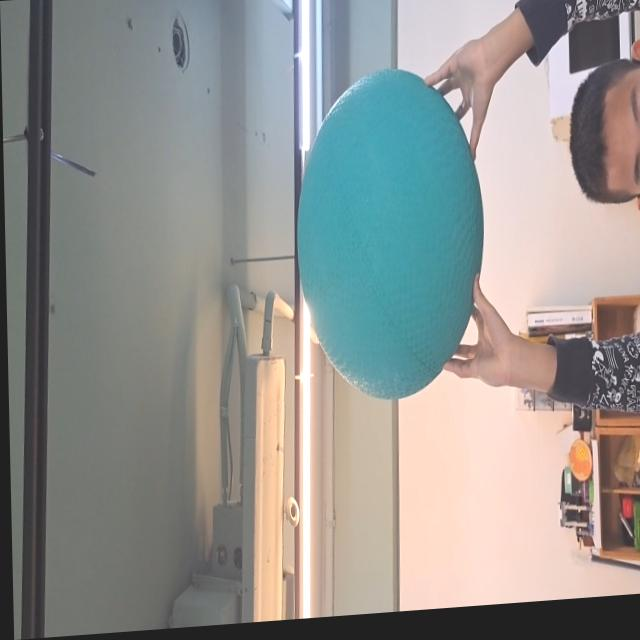ALGAE: (295, 60, 488, 410)
